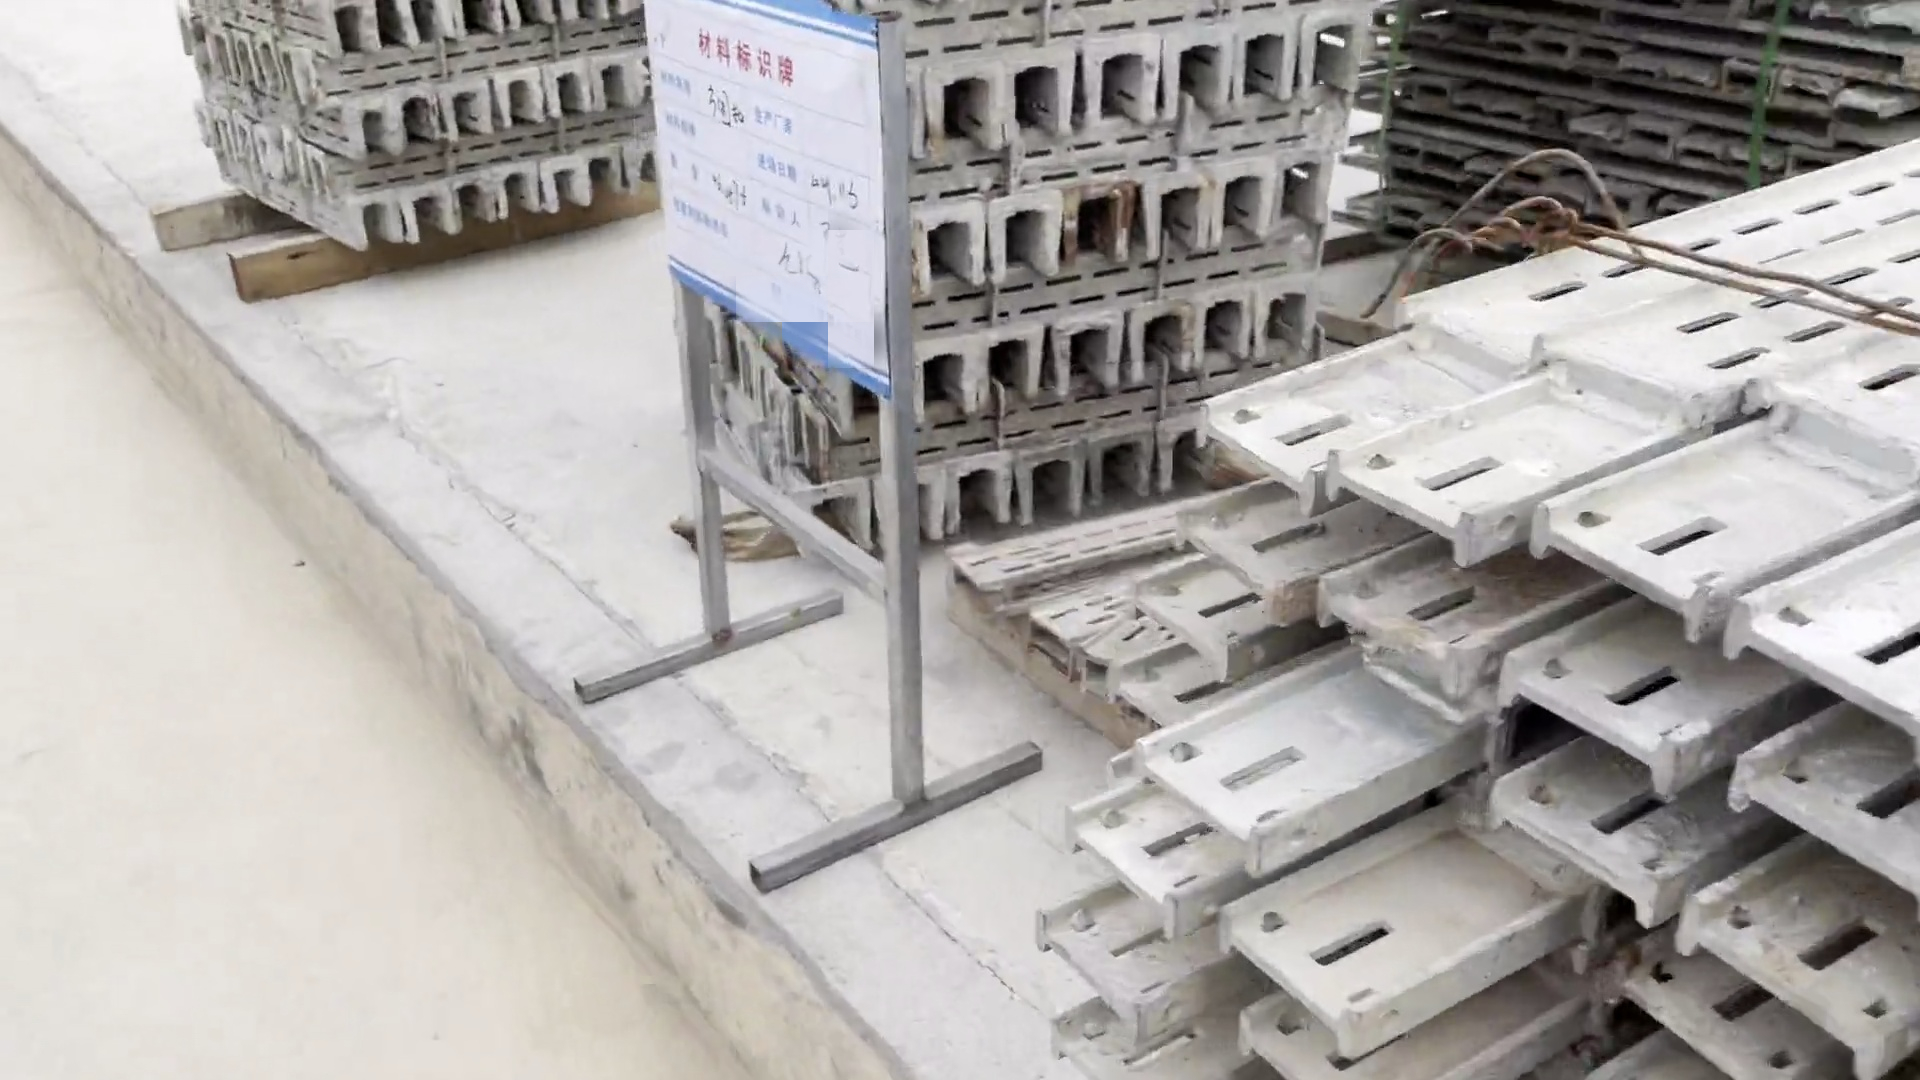slogan: (611, 1, 935, 415)
